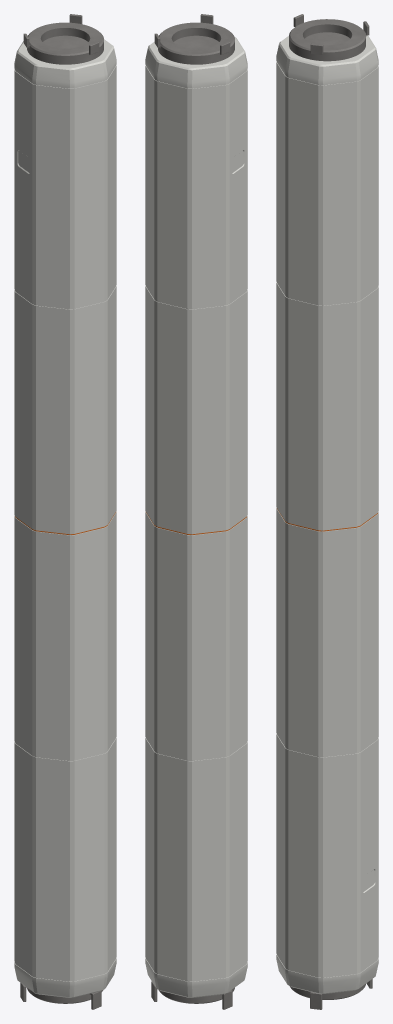
The model's file is ax_grav_03_pressurised_spoke.glb.
3 renders of one model, left to right at view 1: azimuth 30°, elevation 25°; view 2: azimuth 150°, elevation 25°; view 3: azimuth 330°, elevation 25°, orthographic.
Visible parts, largest first — view 1: pressure_hull, port_top, hatch_door_2, port_bottom, port_top_petals, port_bottom_petals; view 2: pressure_hull, port_top, hatch_door_2, port_bottom, port_top_petals, port_bottom_petals; view 3: pressure_hull, port_top, hatch_door_2, port_bottom, port_top_petals.
Part boxes in pixels (<box>): pressure_hull: <box>14,39,116,997</box>; port_top: <box>27,22,103,64</box>; hatch_door_2: <box>43,35,87,48</box>; port_bottom: <box>27,987,103,1003</box>; port_top_petals: <box>23,14,99,54</box>; port_bottom_petals: <box>20,983,101,1009</box>; pressure_hull: <box>145,36,247,997</box>; port_top: <box>158,22,234,64</box>; hatch_door_2: <box>174,35,218,48</box>; port_bottom: <box>158,987,234,1003</box>; port_top_petals: <box>154,14,230,54</box>; port_bottom_petals: <box>151,981,232,1009</box>; pressure_hull: <box>276,35,378,993</box>; port_top: <box>289,19,365,61</box>; hatch_door_2: <box>305,32,349,45</box>; port_bottom: <box>290,984,365,999</box>; port_top_petals: <box>293,14,369,54</box>.
Bounding box in the file's own units: 2 × 22.01 × 2.
4 materials, 2 textured.
